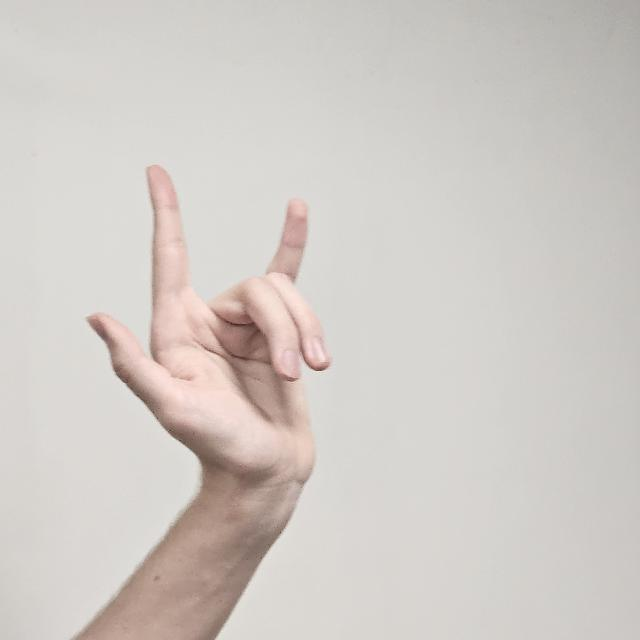Cima: (87, 156, 329, 504)
